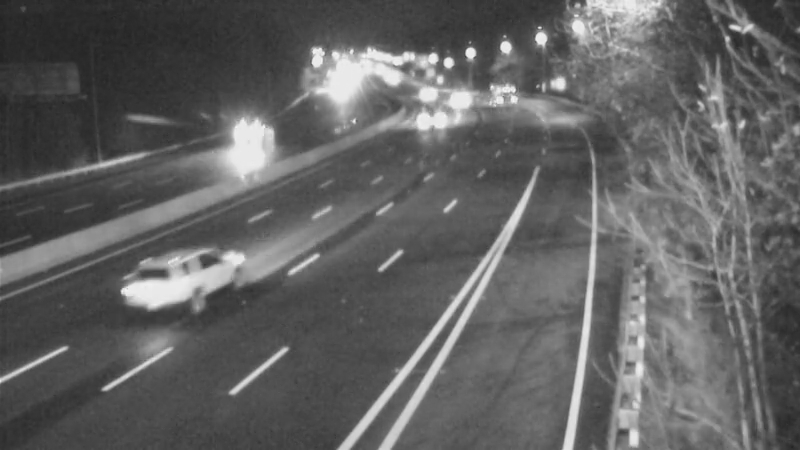vehicle: (129, 251, 209, 331), (368, 54, 418, 104), (469, 71, 519, 121), (399, 68, 449, 118), (429, 68, 479, 118), (410, 97, 460, 147), (230, 103, 280, 153), (313, 65, 363, 115)
